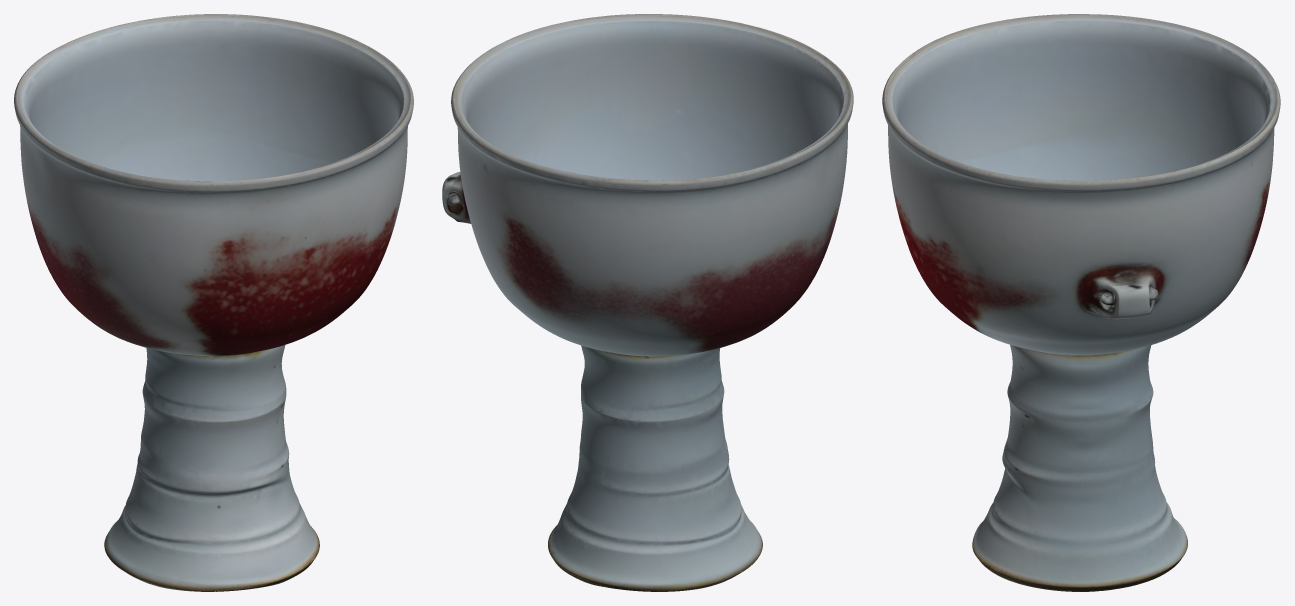
Rendered from gaozu.glb.
3 renders of one model, left to right at view 1: azimuth 30°, elevation 25°; view 2: azimuth 150°, elevation 25°; view 3: azimuth 270°, elevation 25°, orthographic.
Visible parts, largest first — view 1: node_0; view 2: node_0; view 3: node_0.
Boxes of the visible parts, bbox=[...] form: node_0: bbox=[14, 14, 413, 591]; node_0: bbox=[442, 14, 853, 591]; node_0: bbox=[882, 14, 1280, 591].
Bounding box in the file's own units: 0.7626 × 0.9261 × 0.7384.
Materials: 1 (1 with a texture image).
